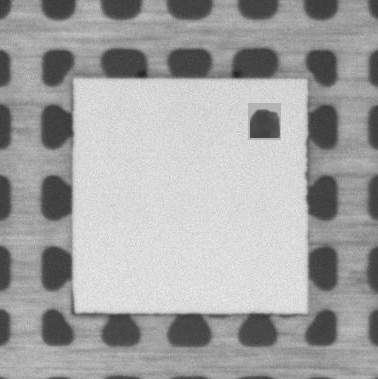DIE_INK: (247, 105, 281, 140)
